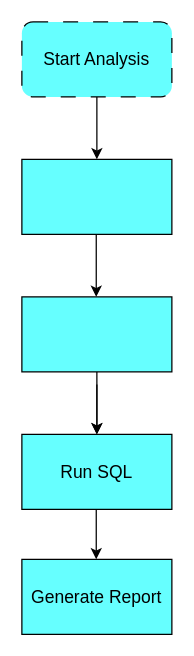
Some shapes in this 194 by 656 pixel diagram are drawn without their labels. The shapes that lost their labels are listed below. From the top down, each one's centre as x and y in pixels, then its label:
At point 96,196: "Load CSV".
At point 96,334: "Create Tables".
